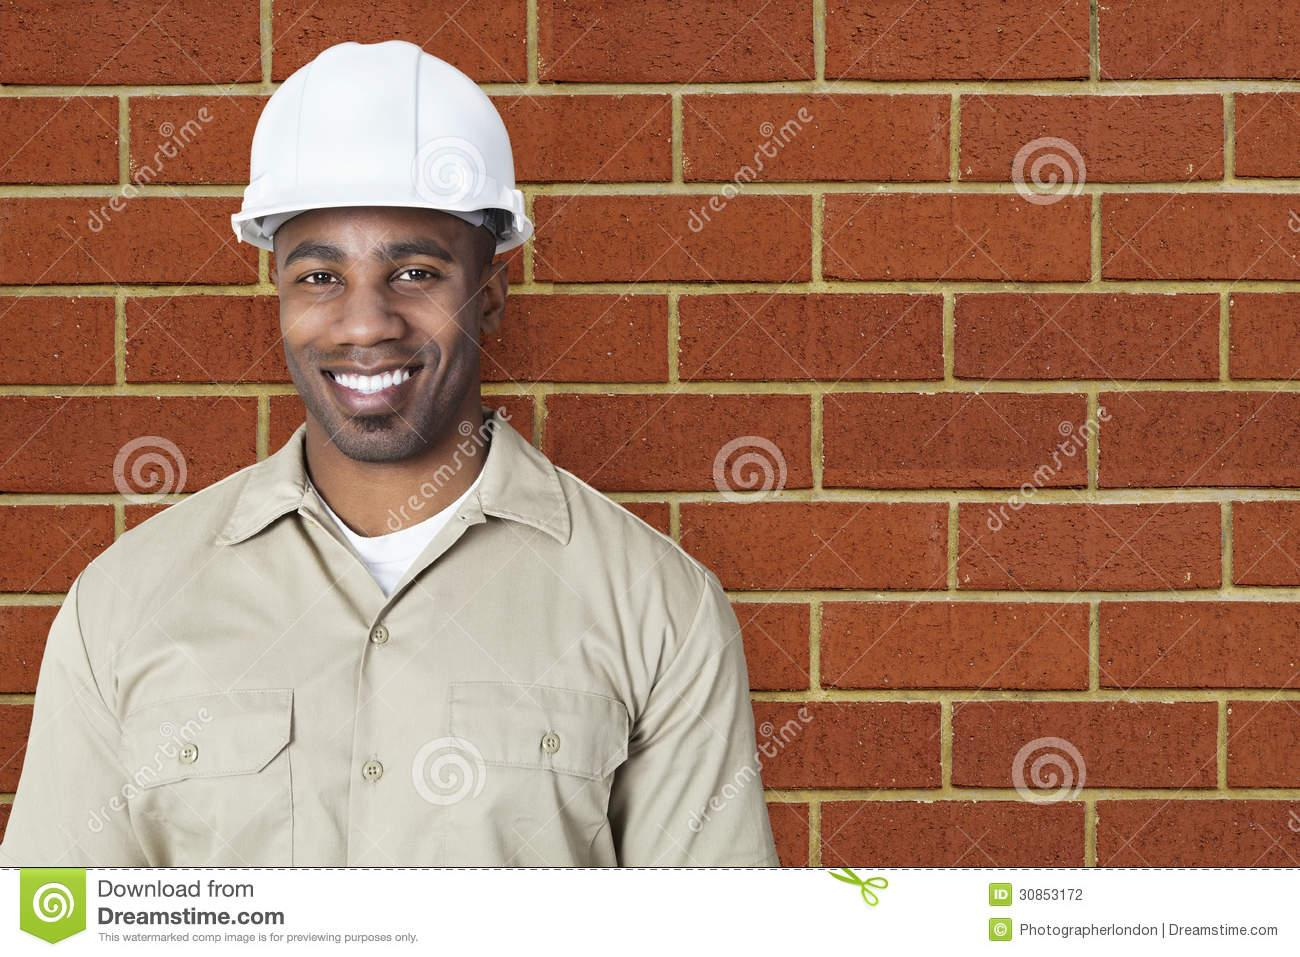helmet: (229, 39, 532, 259)
